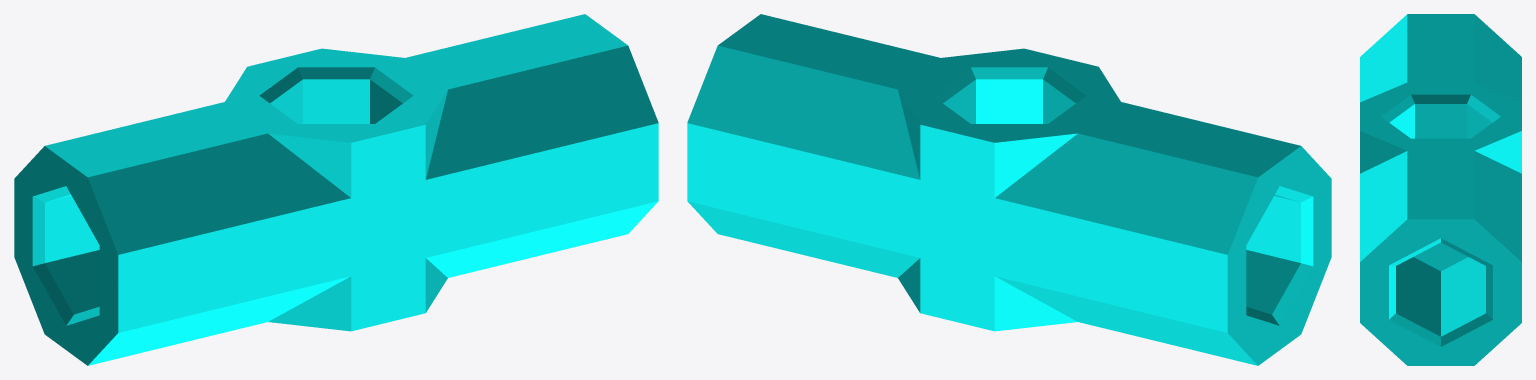
File: 180 Connector.glb
3 views of the same model, side by side, from view 1: azimuth 30°, elevation 25°; view 2: azimuth 150°, elevation 25°; view 3: azimuth 270°, elevation 25° (orthographic). The views are drawn at different scales.
Visible parts, largest first — view 1: Node1; view 2: Node1; view 3: Node1.
Boxes of the visible parts, bbox=[...] form: Node1: bbox=[14, 14, 658, 365]; Node1: bbox=[687, 14, 1331, 365]; Node1: bbox=[1360, 14, 1521, 365].
Bounding box in the file's own units: 21 × 7 × 7.
